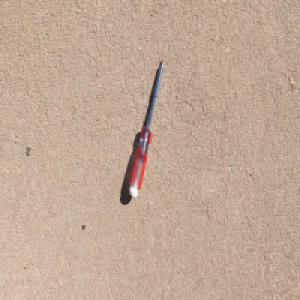Screwdriver: (128, 56, 165, 198)
